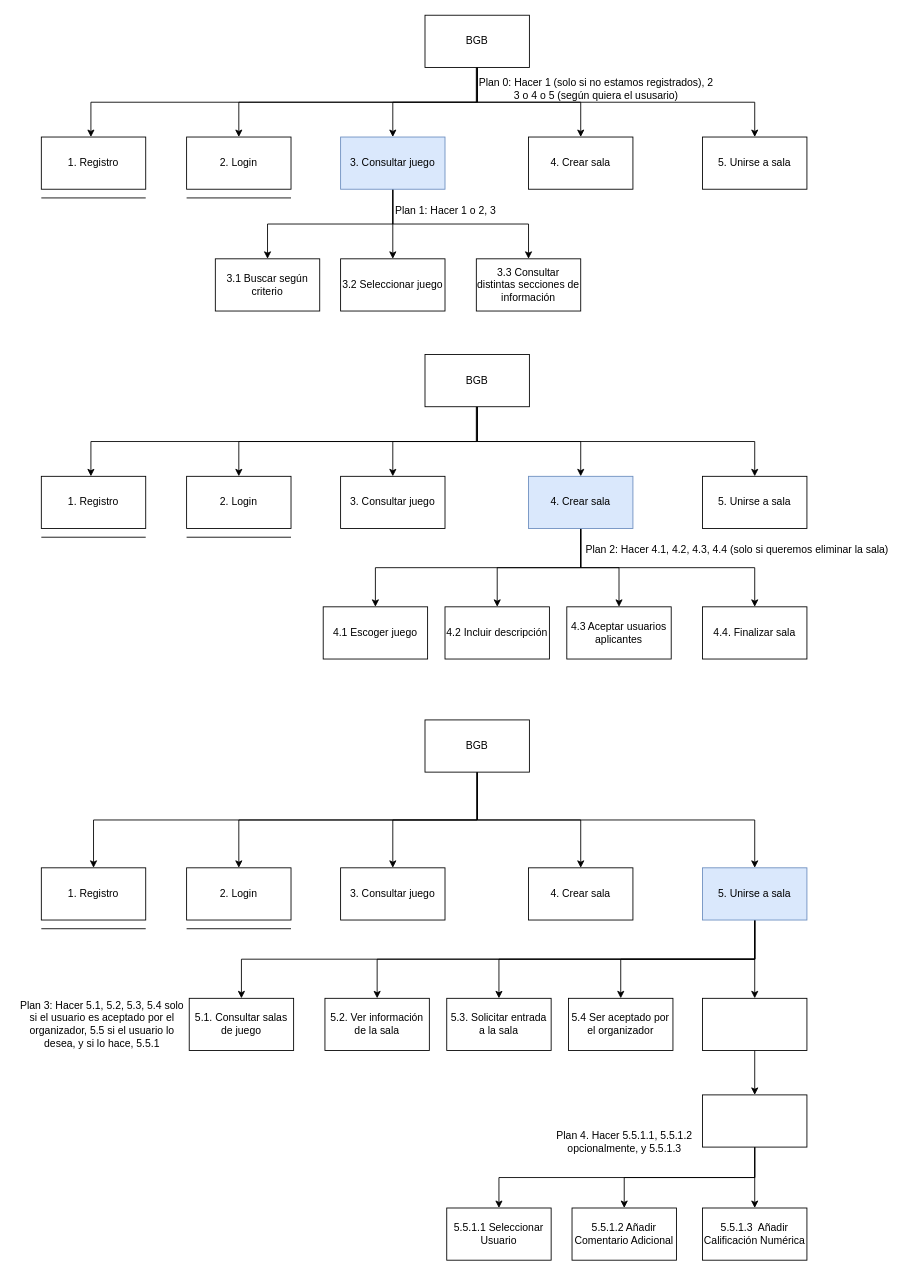
The diagram is 917 pixels wide and 1275 high, and some of its shapes have lost their labels. The shapes that lost their labels are listed below. From the top down, each one's centre as x and y in pixels, then its label:
At point (754, 1024): "5.5. Abandonar Sala".
At point (754, 1120): "5.5.1. Valorar Usuario".
